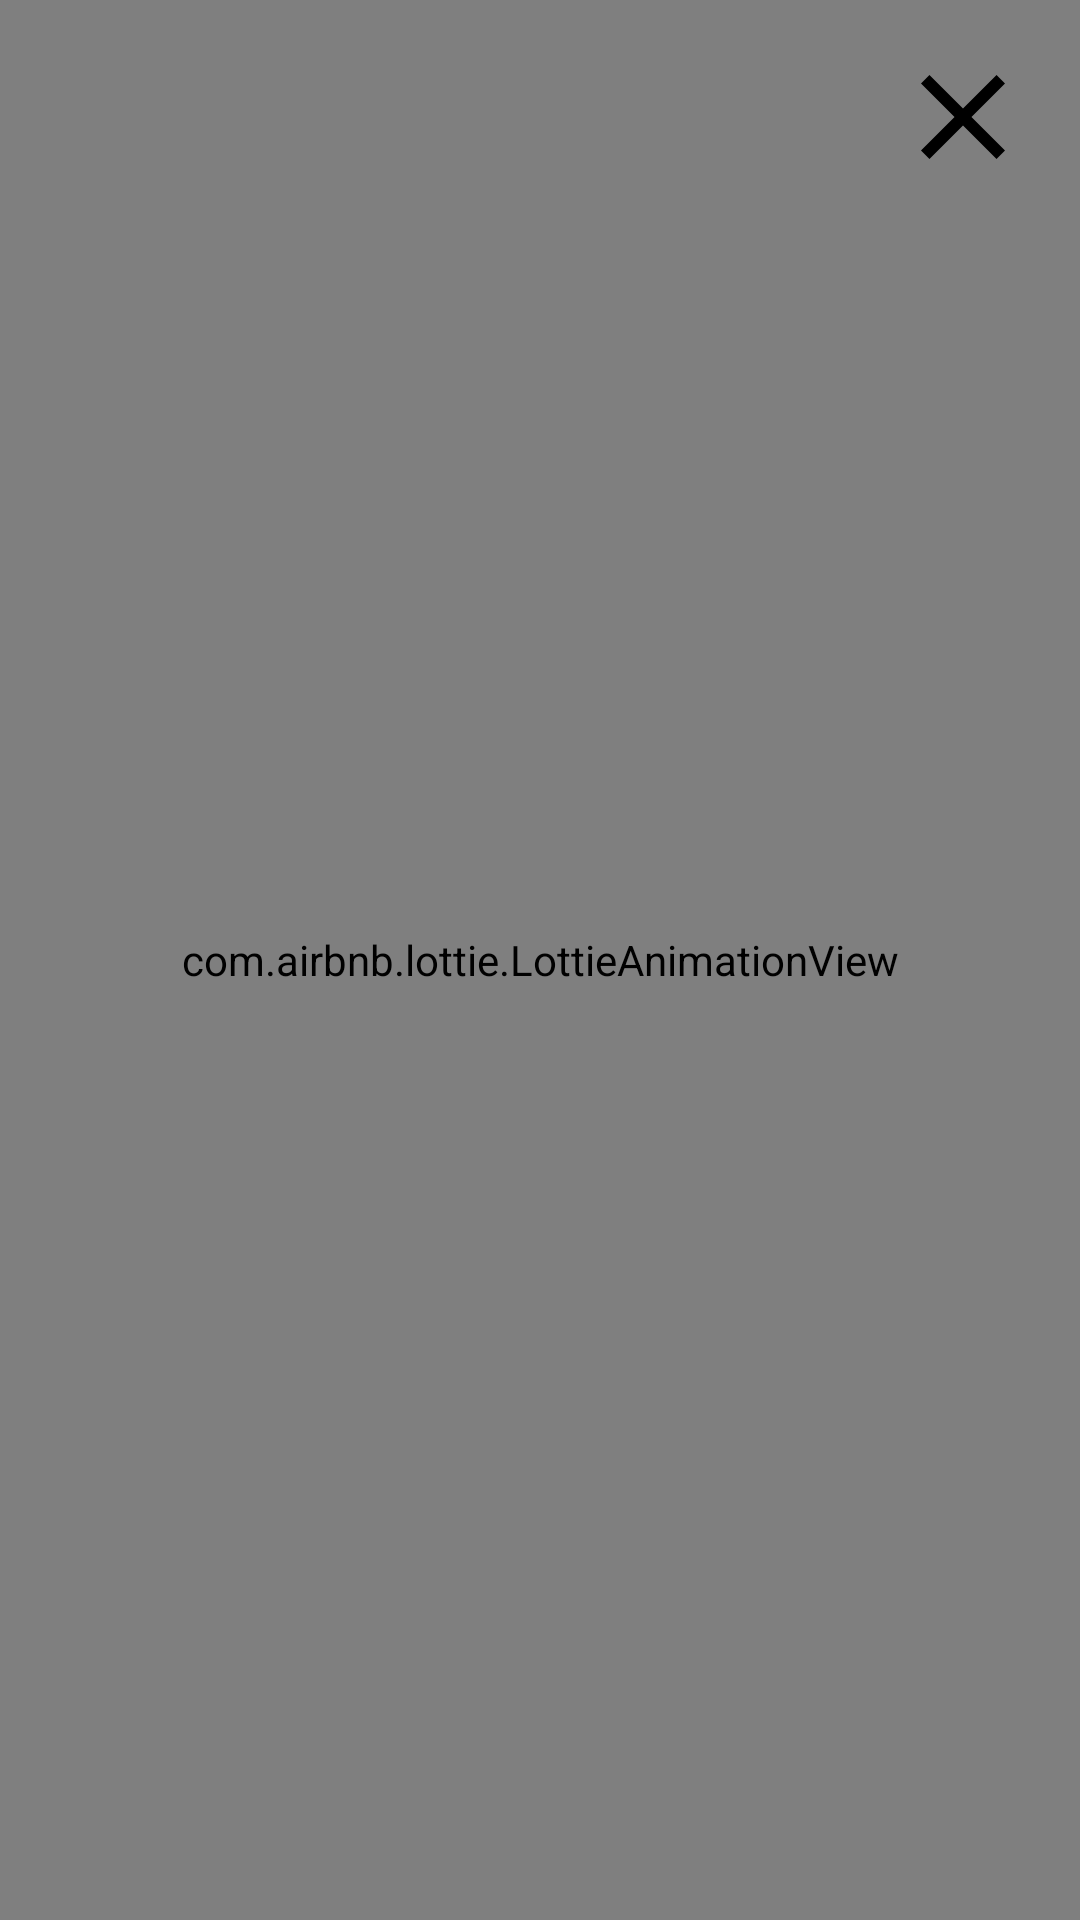

Icons on this 1080w x 1920h Android screen, each with the point to tap as (x,y):
cross: (963,117)
